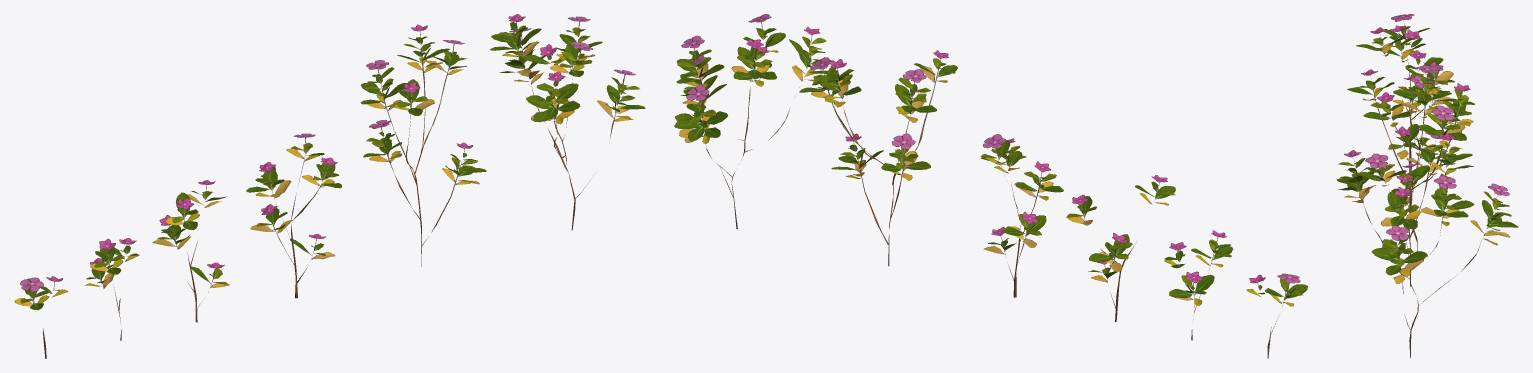
The model's file is shrub-01.glb.
3 views of the same model, side by side, from view 1: azimuth 30°, elevation 25°; view 2: azimuth 150°, elevation 25°; view 3: azimuth 270°, elevation 25° (orthographic). The views are drawn at different scales.
Visible parts, largest first — view 1: periwinkle_plant_04_LOD0; view 2: periwinkle_plant_04_LOD0; view 3: periwinkle_plant_04_LOD0.
Boxes of the visible parts, x1=… form: periwinkle_plant_04_LOD0: x1=14, y1=14, x2=645, y2=358; periwinkle_plant_04_LOD0: x1=674, y1=14, x2=1307, y2=358; periwinkle_plant_04_LOD0: x1=1336, y1=14, x2=1518, y2=358.
Size of the model in its own units: 1.24 by 0.4107 by 0.3207.
Materials: 1 (1 with a texture image).
